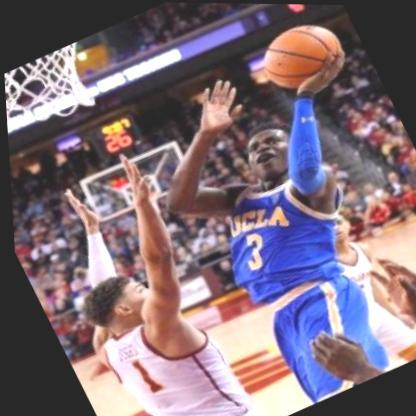basketball: (247, 5, 356, 100)
